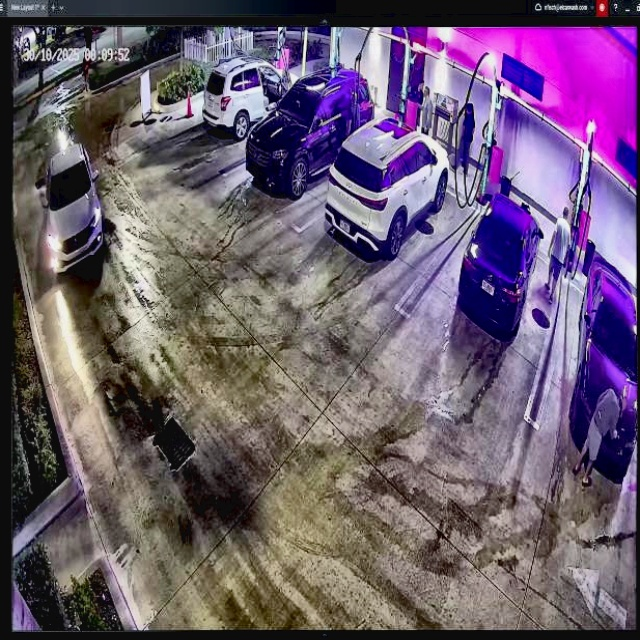Car: (325, 117, 449, 256), (245, 66, 374, 195), (455, 194, 542, 335), (203, 61, 301, 141)
